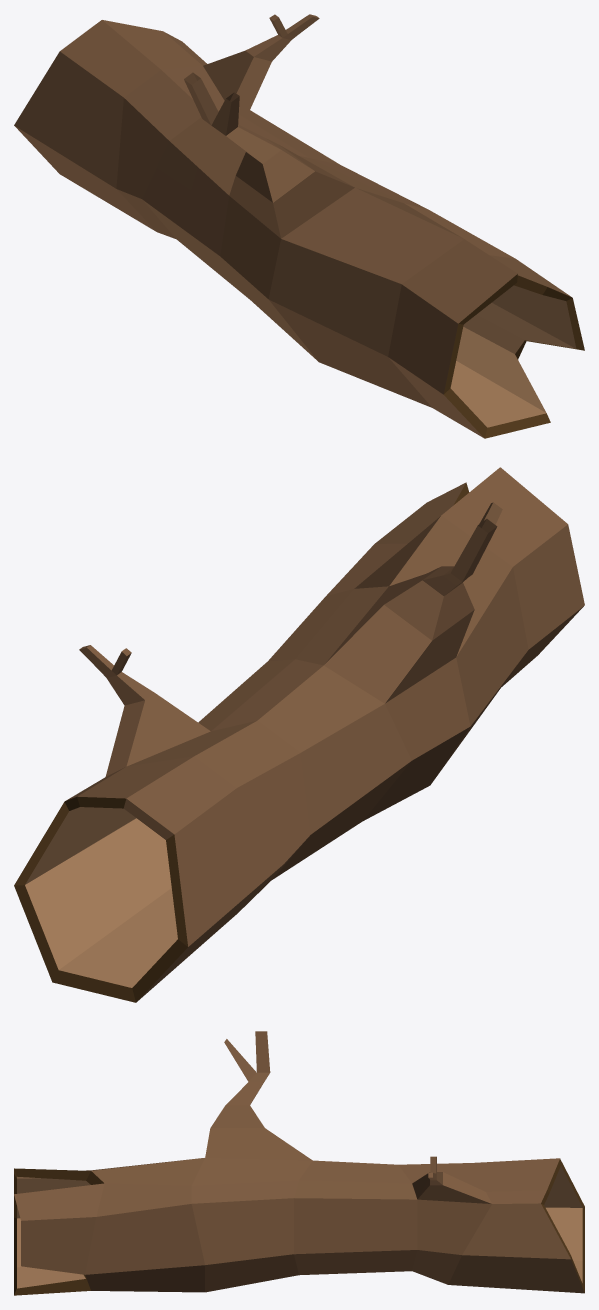
The model's file is Log_02.fbx.
3 views of the same model, one above another, from view 1: azimuth 30°, elevation 25°; view 2: azimuth 150°, elevation 25°; view 3: azimuth 270°, elevation 25° (orthographic). The views are drawn at different scales.
Visible parts, largest first — view 1: Log_02; view 2: Log_02; view 3: Log_02.
Part boxes in pixels (bbox=[...]): Log_02: bbox=[14, 14, 584, 438]; Log_02: bbox=[14, 467, 584, 1002]; Log_02: bbox=[14, 1031, 584, 1295].
Bounding box in the file's own units: 79.15 × 86.36 × 217.
